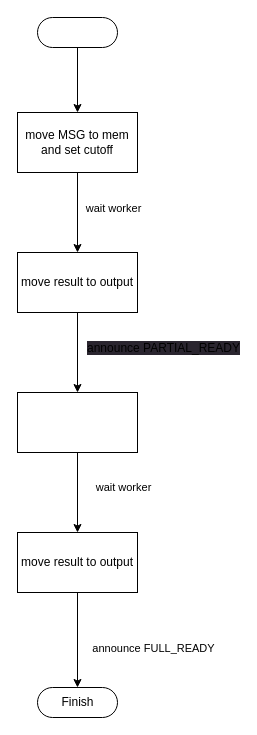
Image size: 257x735. Some labels were removed from this diagram. Here are the shapes that lost their labels. From the top down, the box of each, then its label:
(36, 16, 118, 48): start
(16, 392, 138, 452): transpose partial result into mem
